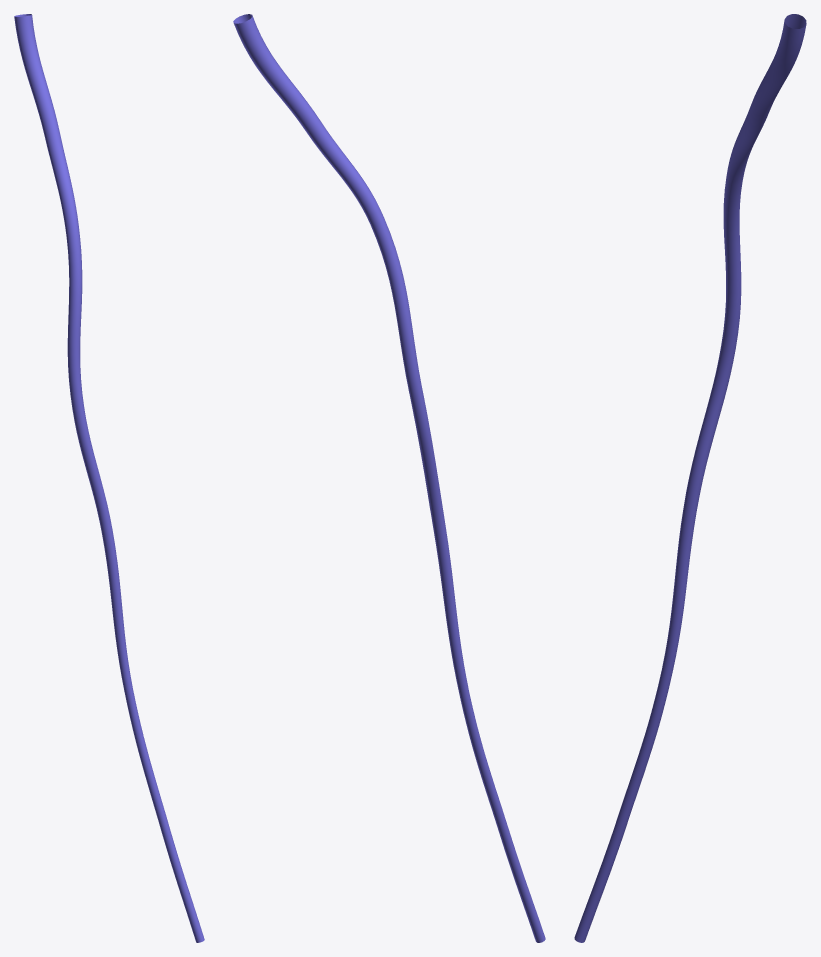
Rendered from Radial_veins.r_BezierCurve.299.glb.
The picture shows the model from 3 angles, left to right: view 1: azimuth 90°, elevation 25°; view 2: azimuth 150°, elevation 25°; view 3: azimuth 270°, elevation 25°; orthographic projection. The views are drawn at different scales.
Visible parts, largest first — view 1: Radial_veins.r_BezierCurve.299; view 2: Radial_veins.r_BezierCurve.299; view 3: Radial_veins.r_BezierCurve.299.
Part boxes in pixels (<box>): Radial_veins.r_BezierCurve.299: <box>14,14,204,942</box>; Radial_veins.r_BezierCurve.299: <box>233,14,545,942</box>; Radial_veins.r_BezierCurve.299: <box>574,14,806,942</box>.
Bounding box in the file's own units: 0.0469 × 0.2021 × 0.0414.
